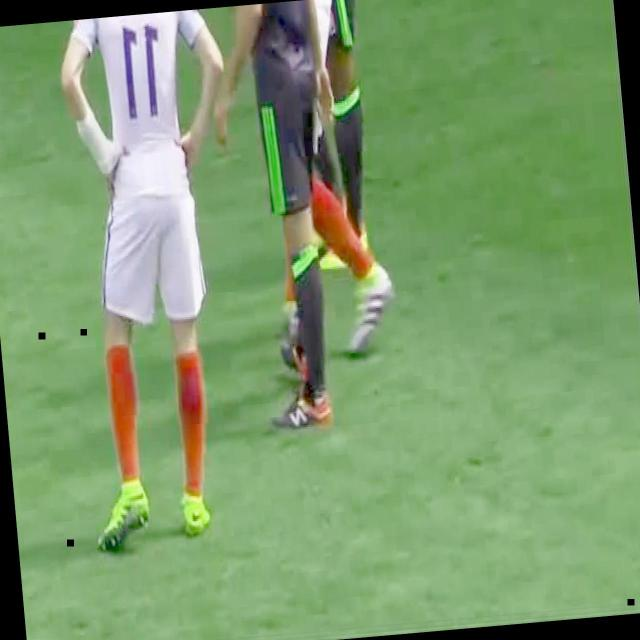player-white: (52, 8, 262, 551), (208, 0, 363, 430), (272, 0, 399, 366), (298, 0, 387, 276)
